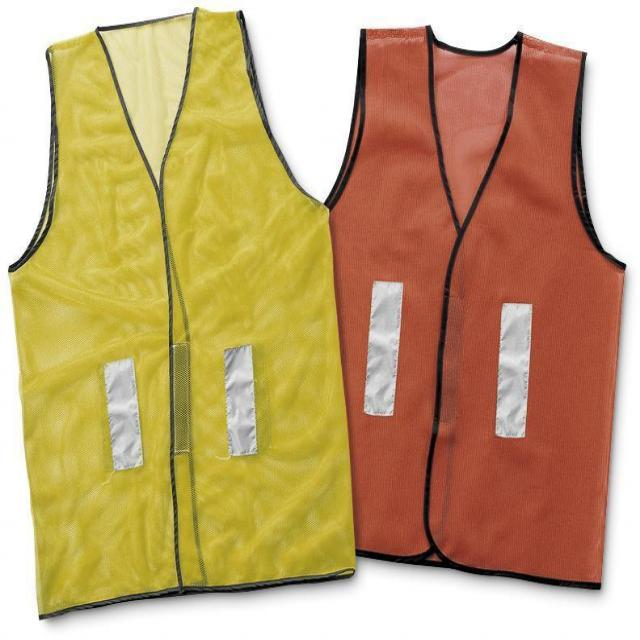vest: (7, 9, 357, 622), (320, 25, 625, 601)
